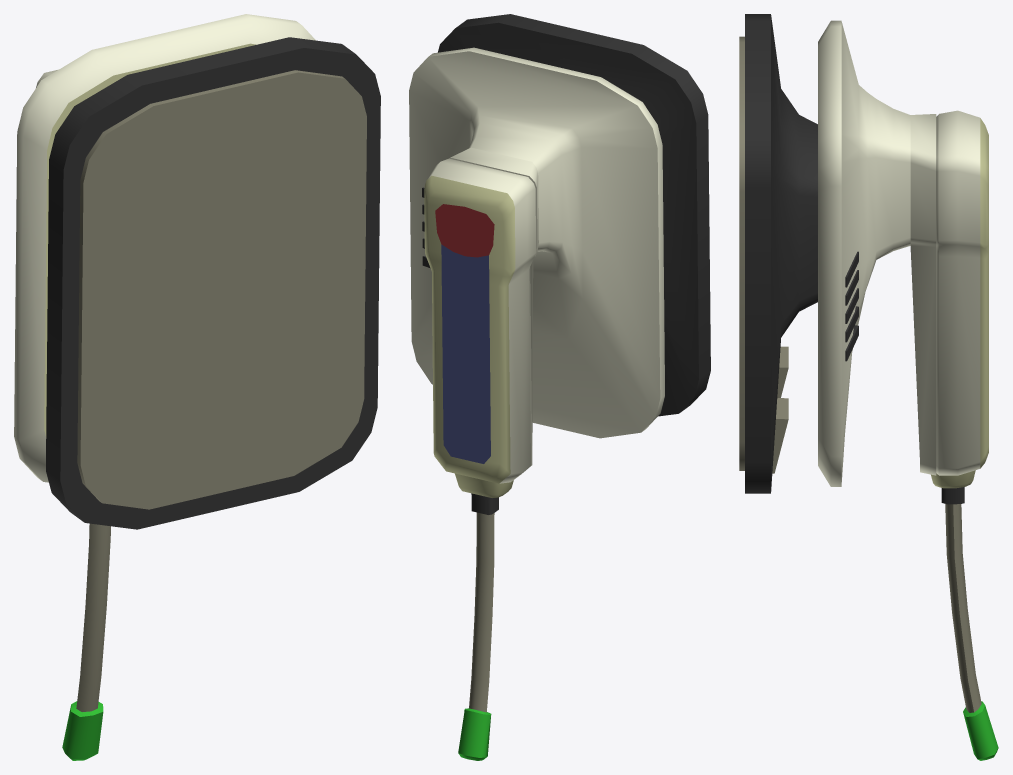
Rendered from DefibHandPiece.glb.
3 views of the same model, side by side, from view 1: azimuth 30°, elevation 25°; view 2: azimuth 150°, elevation 25°; view 3: azimuth 270°, elevation 25° (orthographic). The views are drawn at different scales.
Parts seen in each view (by area): view 1: Defibrilator; view 2: Defibrilator; view 3: Defibrilator.
Part boxes in pixels (x1,y1,x2,y2): Defibrilator: (14, 14, 380, 760); Defibrilator: (409, 14, 710, 760); Defibrilator: (739, 14, 998, 760).
Bounding box in the file's own units: 0.1335 × 0.3136 × 0.1046.
Materials: 1 (1 with a texture image).
